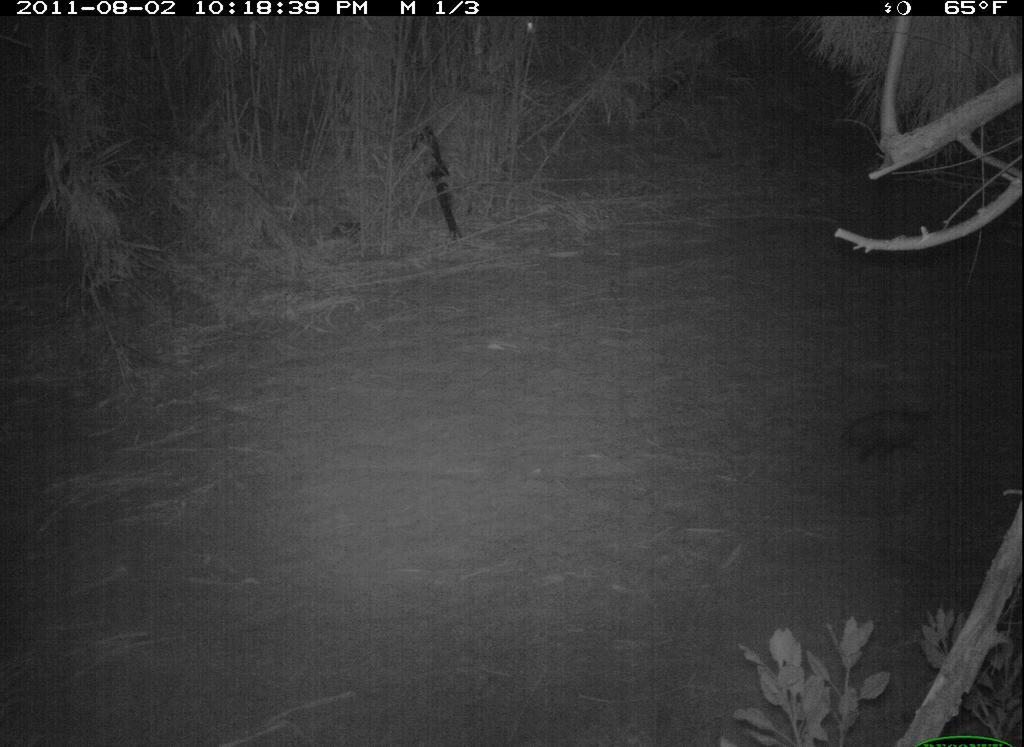opossum: (836, 397, 957, 473)
